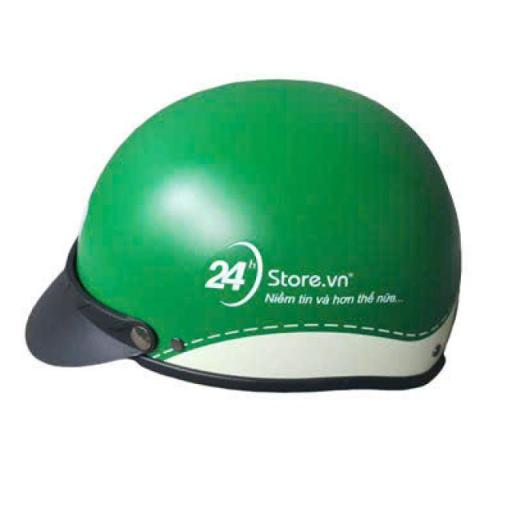with helmet: (24, 80, 469, 401)
